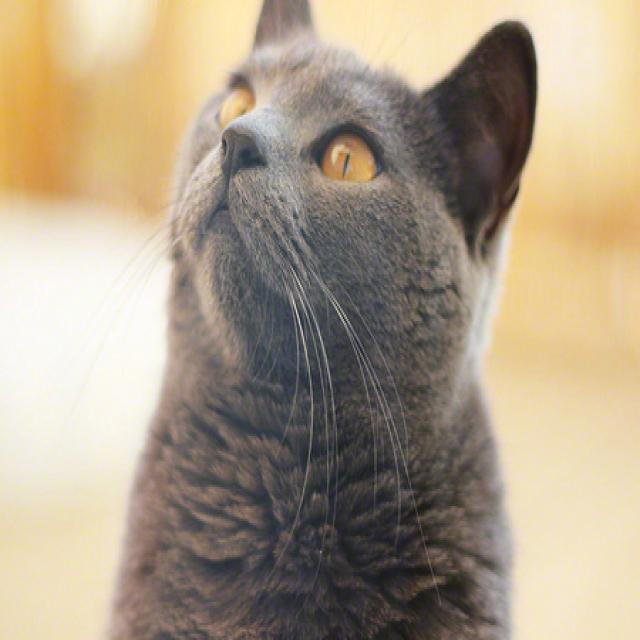British Shorthair: (102, 0, 542, 640)
